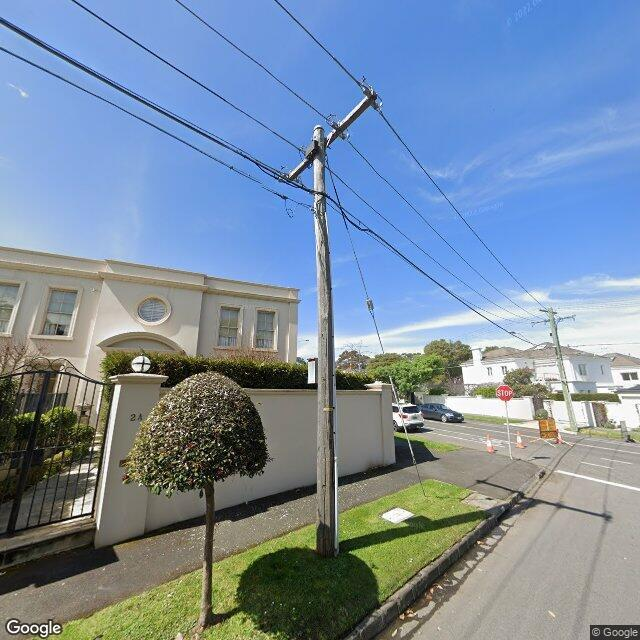crossarm: (280, 78, 382, 184), (530, 314, 576, 327), (540, 309, 558, 314)
timber-pole: (311, 125, 336, 555), (549, 308, 577, 428)
